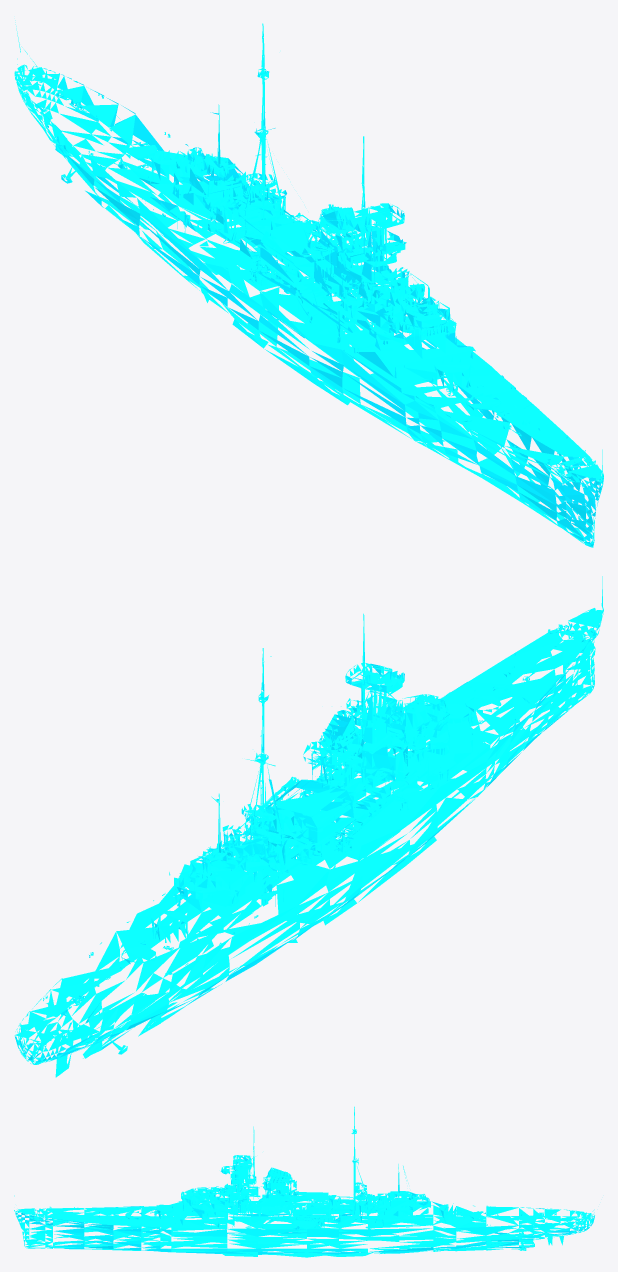
File: Hipper.glb
3 renders of one model, top to bottom at view 1: azimuth 30°, elevation 25°; view 2: azimuth 150°, elevation 25°; view 3: azimuth 270°, elevation 25°, orthographic. The views are drawn at different scales.
Bounding box in the file's own units: 1.52 × 3.69 × 13.87.
